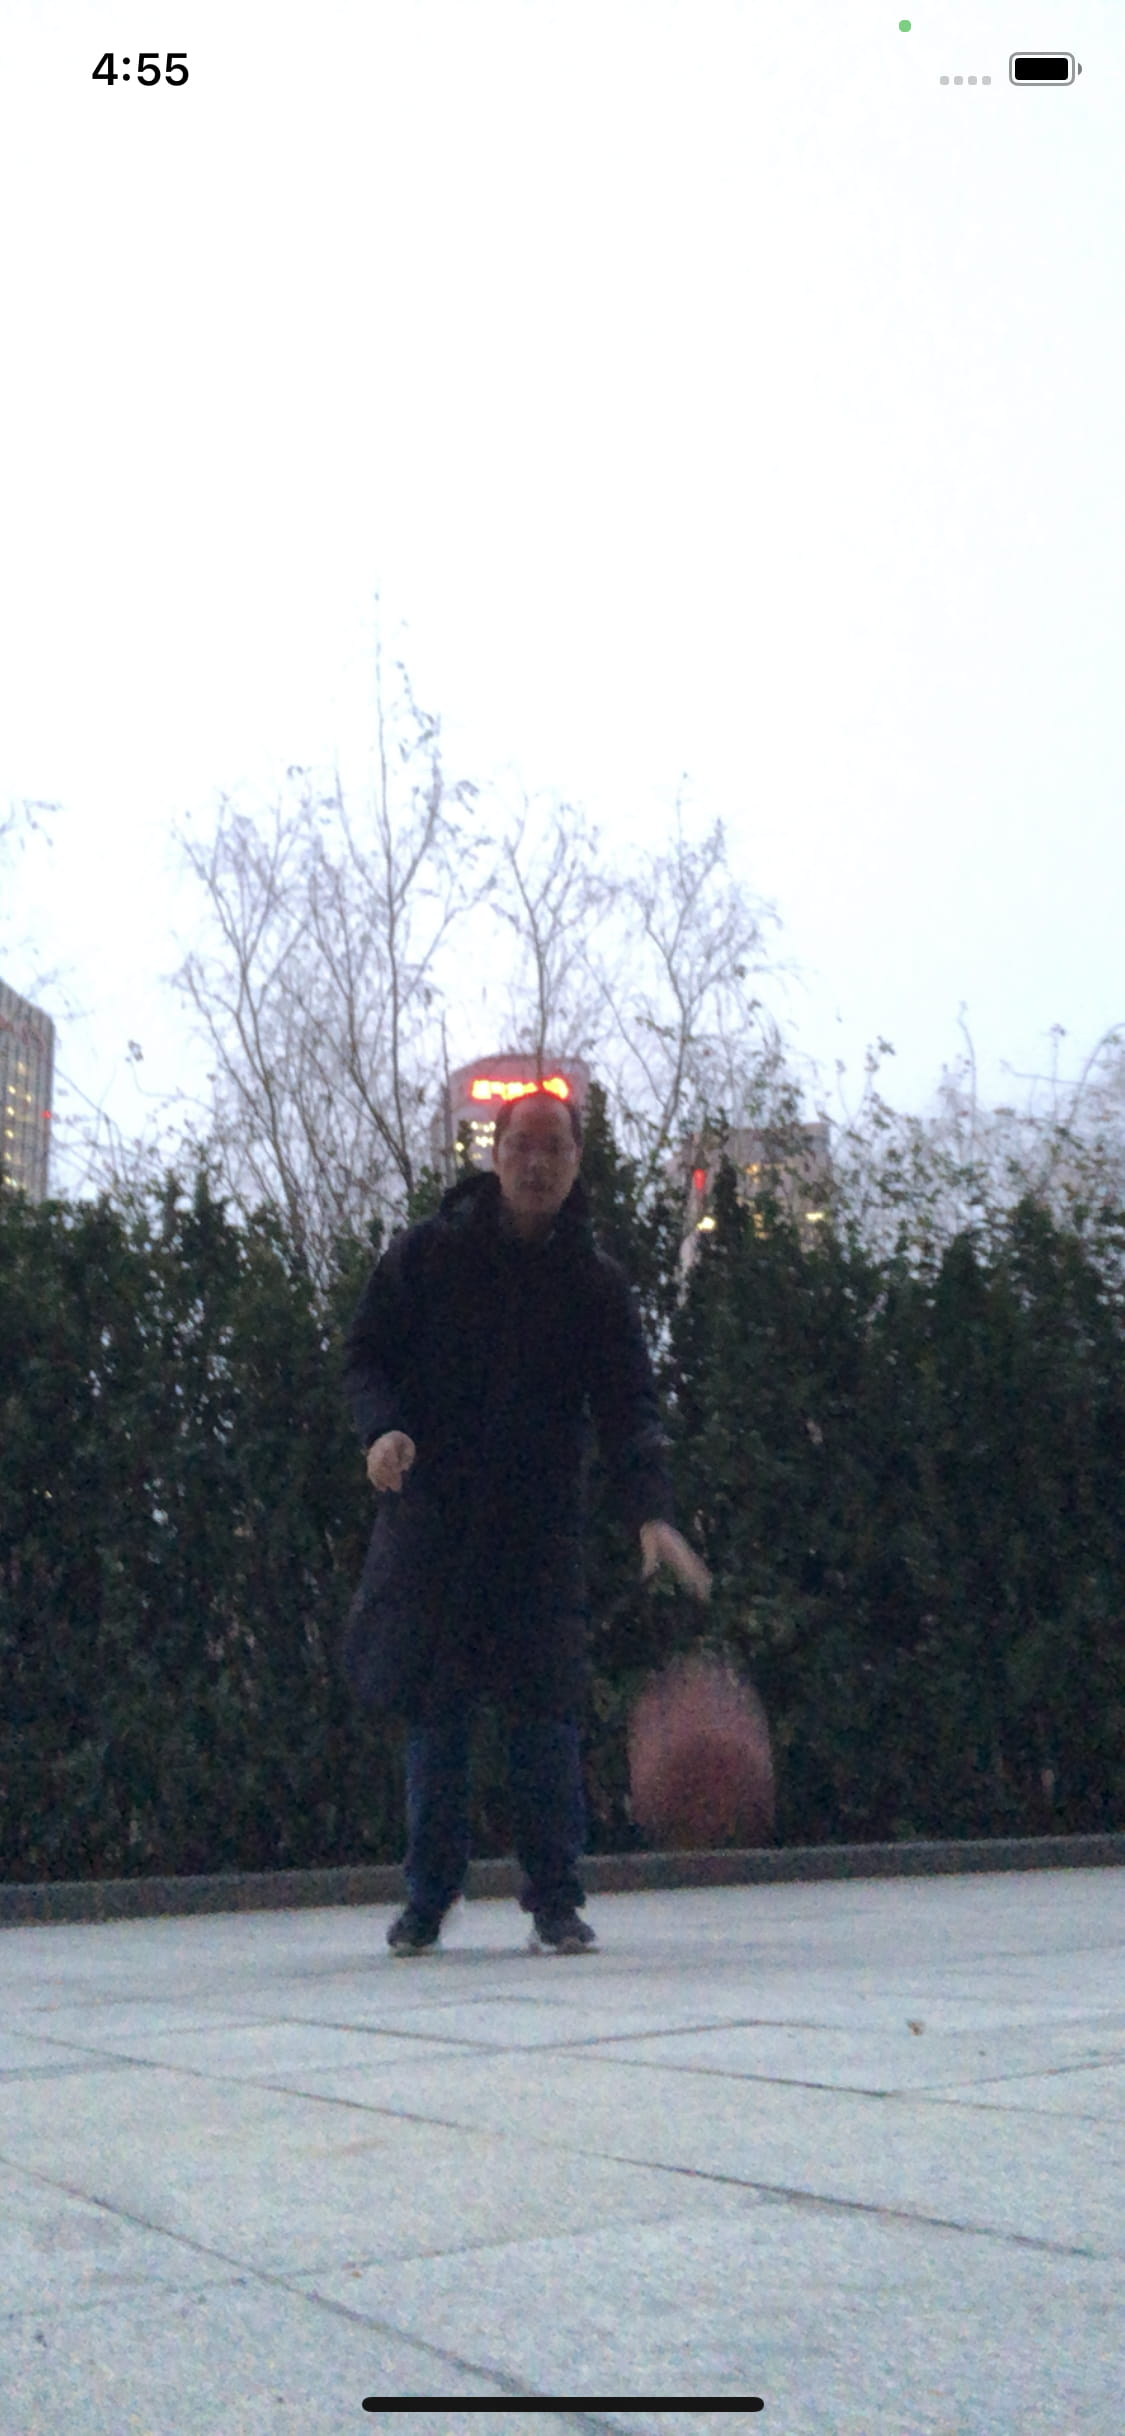ball: (629, 1717, 777, 1846)
